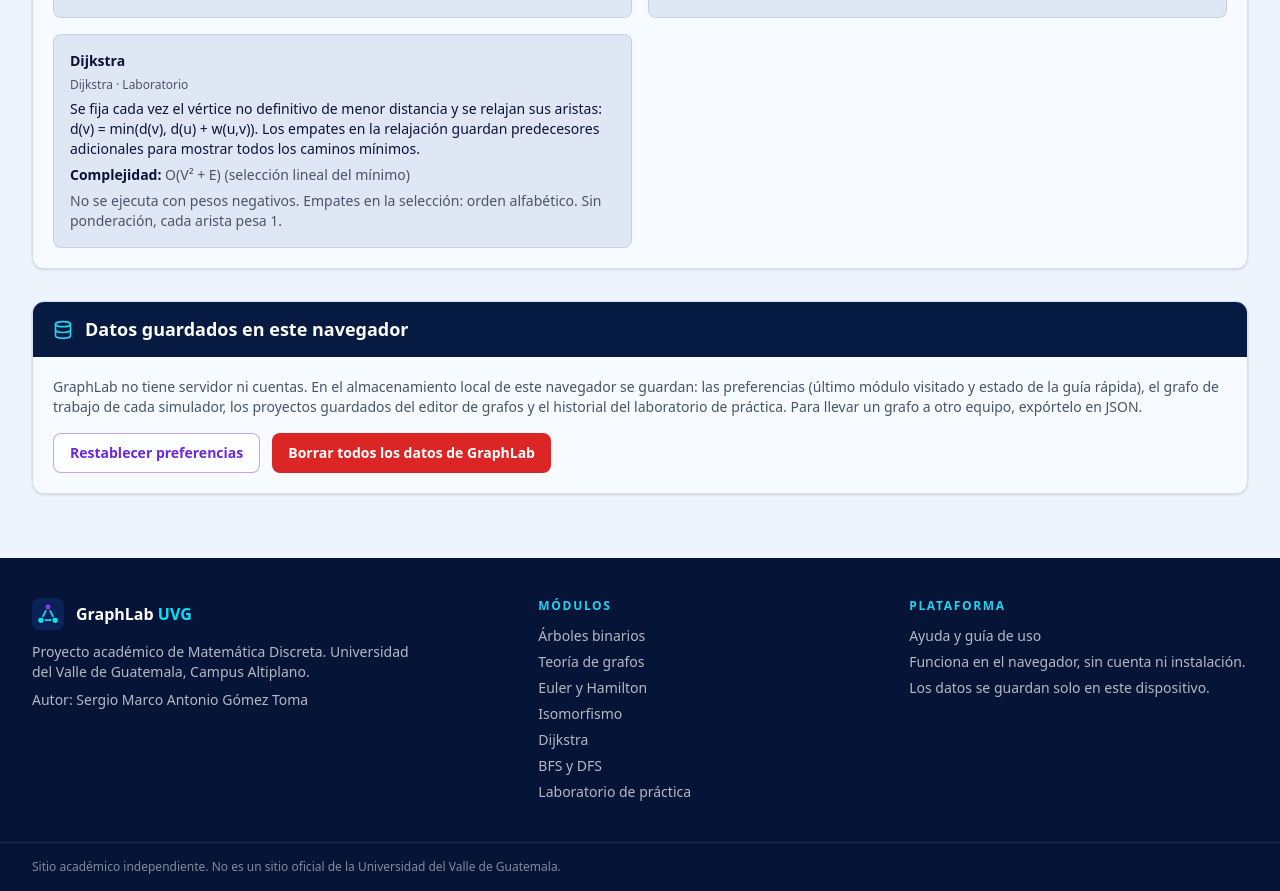
confirmación de acciones destructivas (página de ayuda) › no borra nada hasta confirmar, y el foco inicial está en «Cancelar»
The image size is (1280, 891).
(page scrolled)
Click the button "Restablecer preferencias".
click(157, 453)  # box x1=53 y1=433 x2=260 y2=473
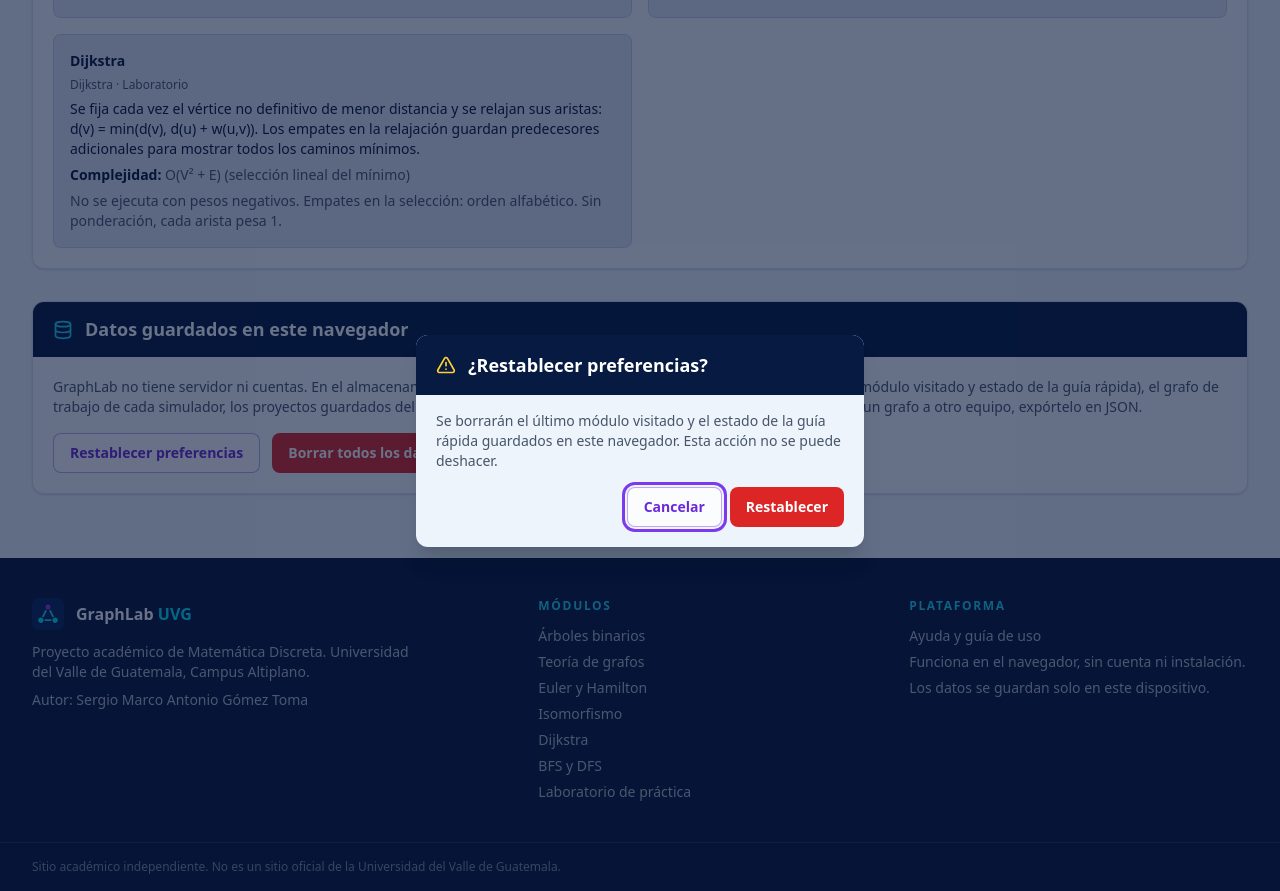
Expected: the dialog "¿Restablecer preferencias?" is shown, x1=416 y1=335 x2=864 y2=547
Click the button "Restablecer".
click(787, 507)  # box x1=730 y1=487 x2=844 y2=527
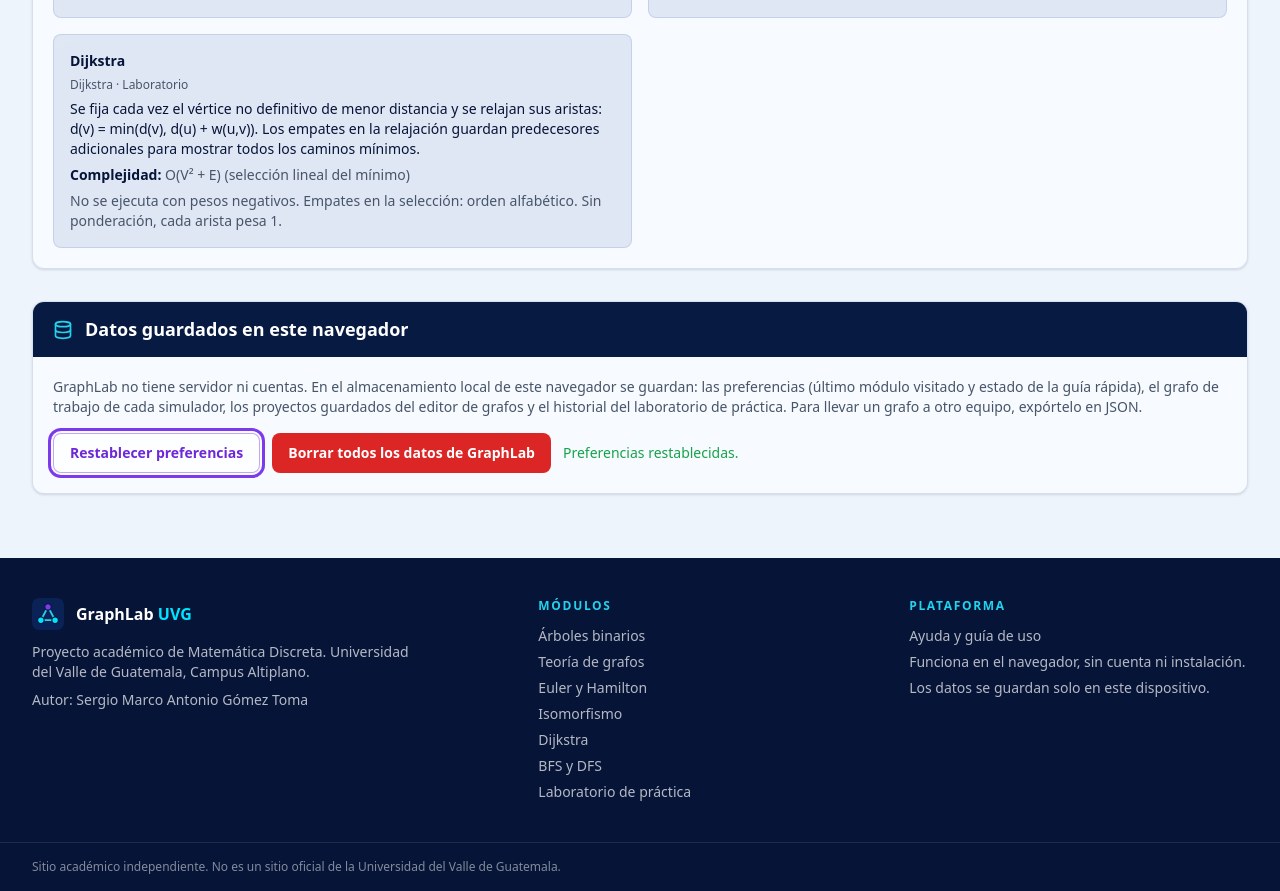
Expected: the dialog is gone
Expected: the message reads "Preferencias restablecidas.", x1=563 y1=443 x2=738 y2=462
